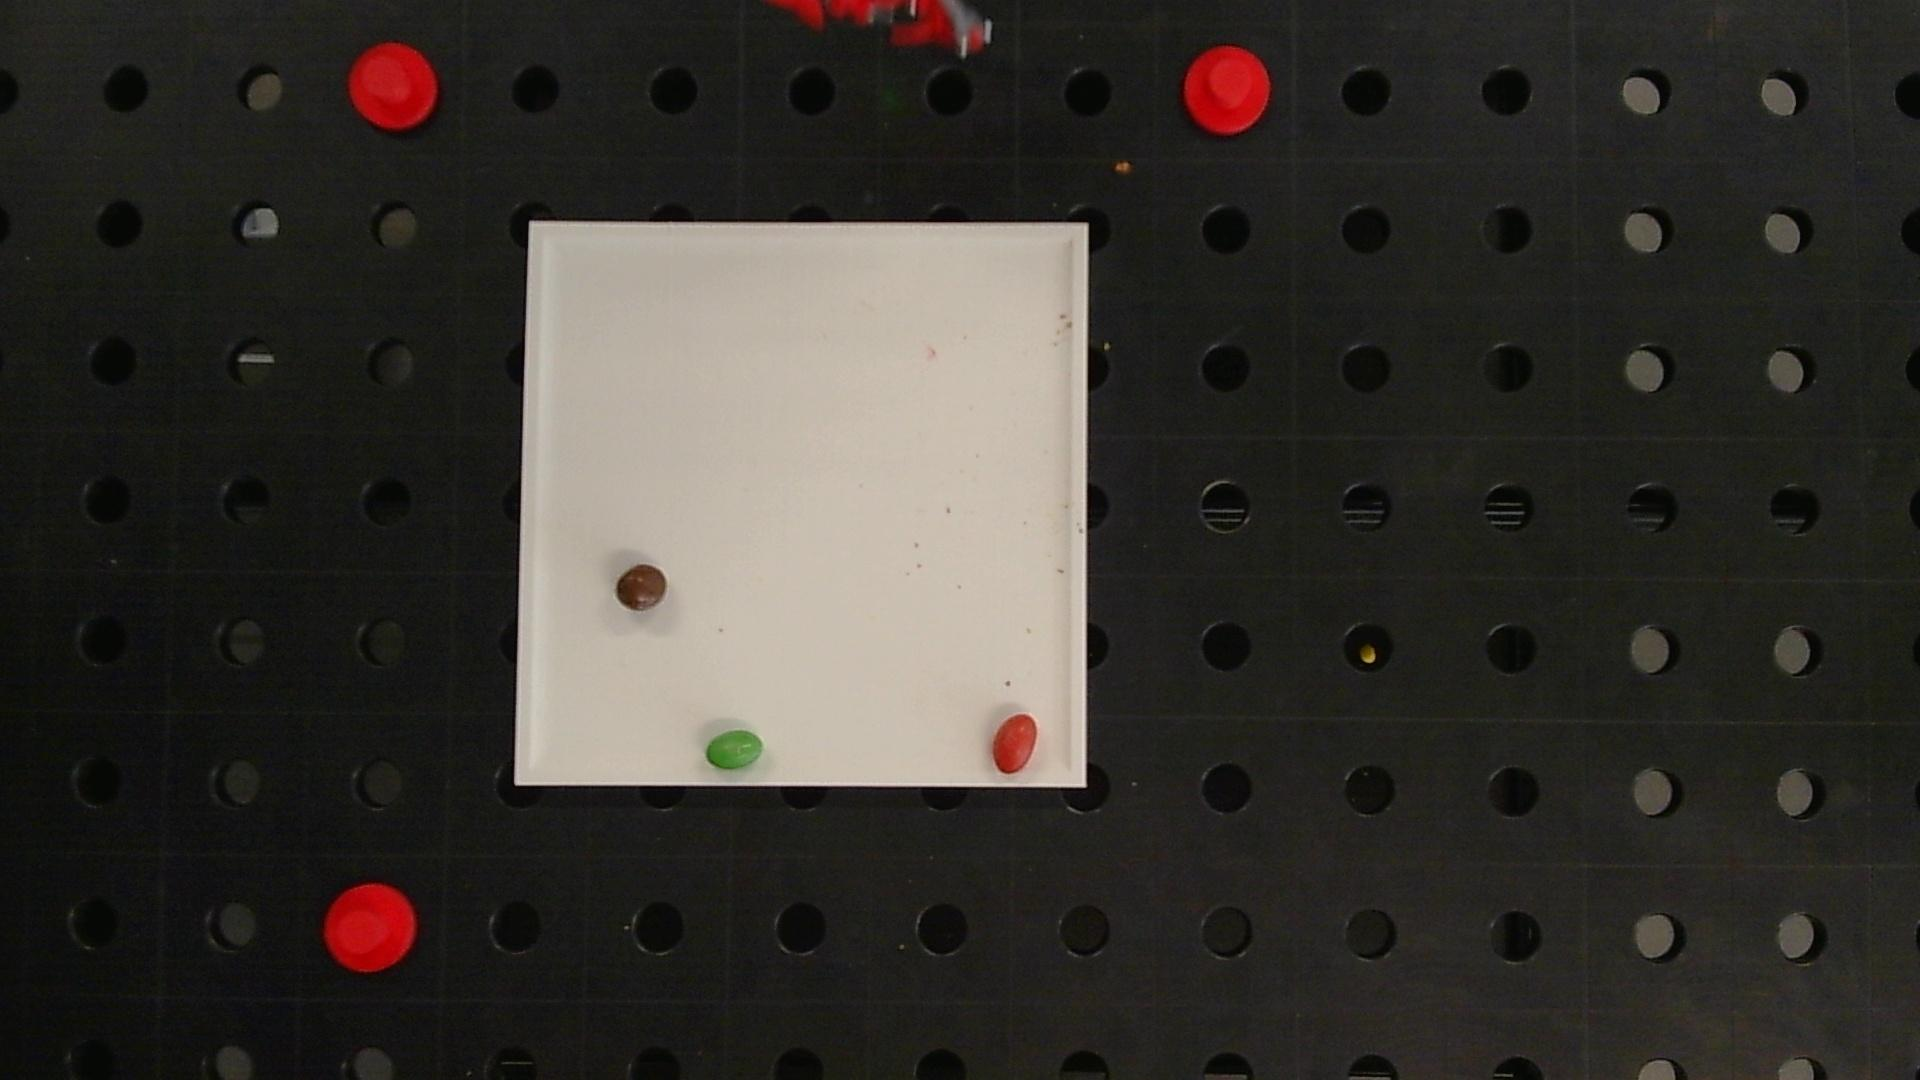brown: (615, 563, 669, 611)
green: (705, 731, 764, 770)
red: (992, 713, 1038, 773)
